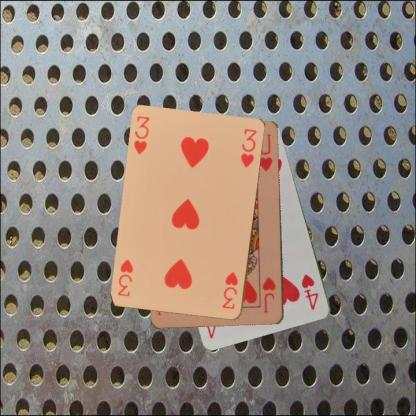3h: (220, 269, 240, 311), (132, 114, 152, 156)
4h: (299, 272, 320, 312)
Jh: (260, 274, 277, 314)
